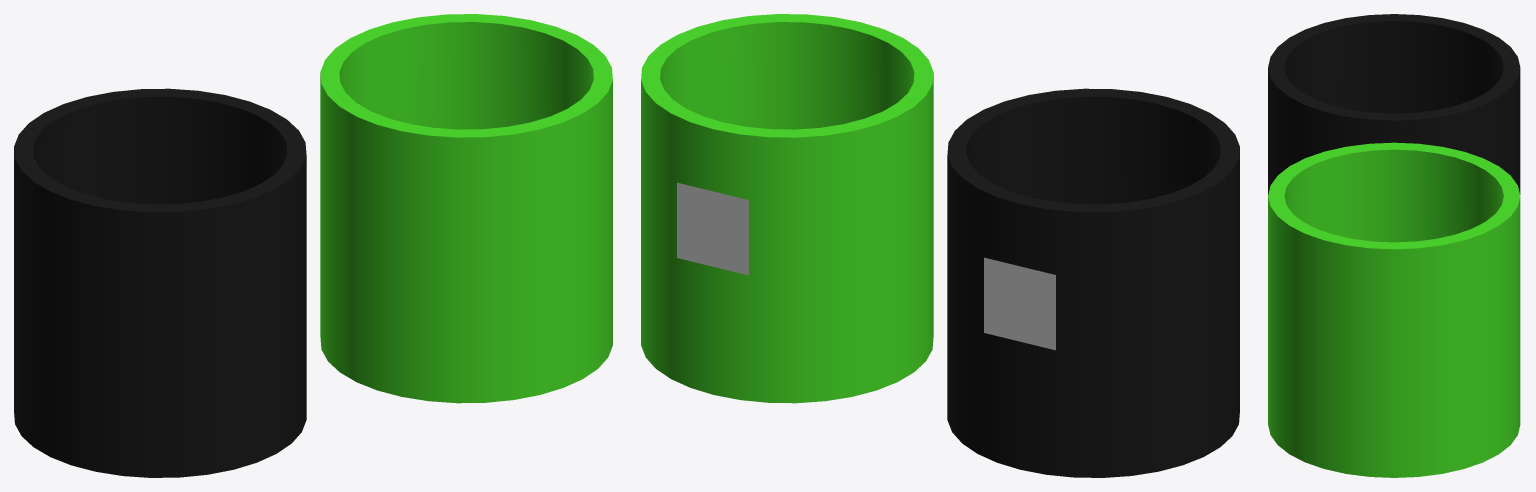
The model's file is garbage-containers.fbx.
3 renders of one model, left to right at view 1: azimuth 30°, elevation 25°; view 2: azimuth 150°, elevation 25°; view 3: azimuth 270°, elevation 25°, orthographic. The views are drawn at different scales.
Parts seen in each view (by area): view 1: Cylinder, Cylinder.001; view 2: Cylinder, Cylinder.001, Plane.001, Plane; view 3: Cylinder, Cylinder.001.
Part boxes in pixels (x1=…): Cylinder: x1=320, y1=14, x2=612, y2=403; Cylinder.001: x1=14, y1=88, x2=306, y2=477; Cylinder: x1=641, y1=14, x2=933, y2=403; Cylinder.001: x1=947, y1=88, x2=1239, y2=477; Plane.001: x1=984, y1=257, x2=1055, y2=350; Plane: x1=677, y1=182, x2=748, y2=275; Cylinder: x1=1268, y1=142, x2=1520, y2=477; Cylinder.001: x1=1268, y1=14, x2=1520, y2=195.
Size of the model in its own units: 441 by 200 by 201.
